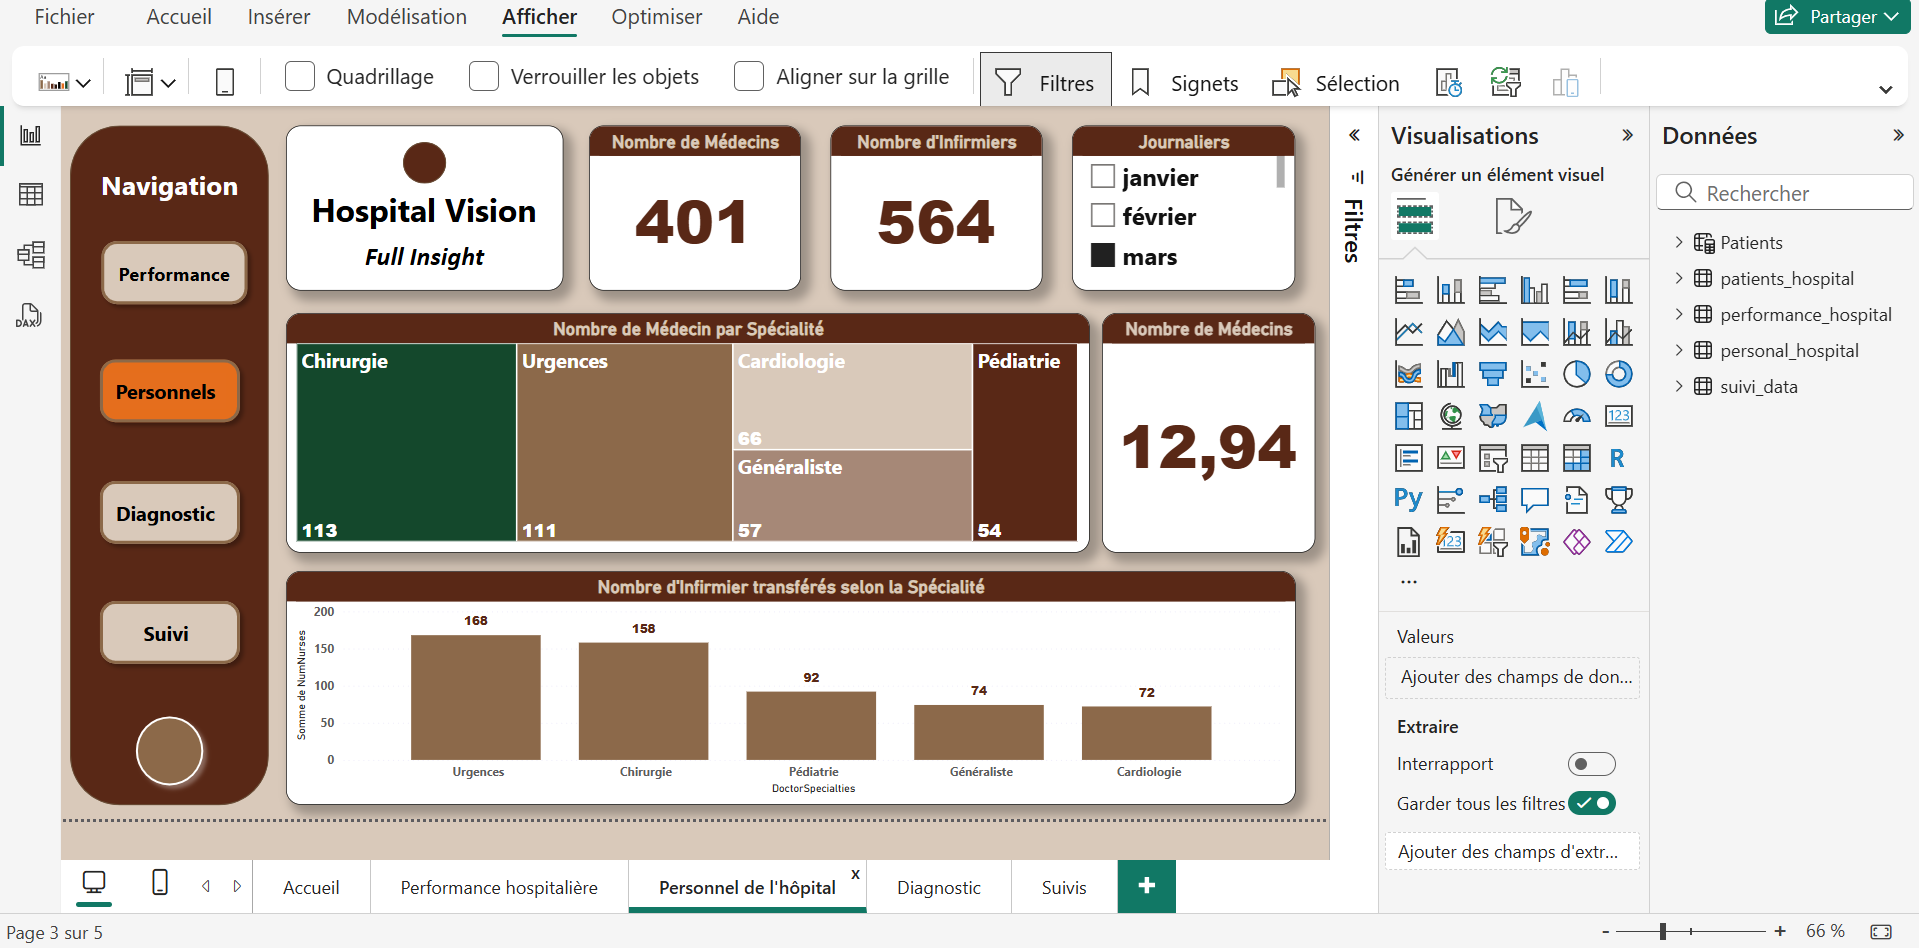

The dashboard page shown, as its layout file describes it:
{"tool":"powerbi","page":{"name":"Personnel de l'hôpital","canvas":[1280,720],"ordinal":2},"visuals":[{"type":"card","title":"Nombre de Médecins","fields":{"Values":["Sum(personal_hospital.NumDoctors)"]},"box":[532.8,19.4,213.8,166.8],"z":0},{"type":"textbox","box":[29.8,56.3,159,56.3],"z":0,"group":"g2"},{"type":"shape","box":[9.7,19.4,200.8,686.7],"z":1000},{"type":"shape","box":[31.6,127,165,81.8],"z":1000,"group":"g2"},{"type":"card","title":"Nombre d''Infirmiers","fields":{"Values":["Sum(personal_hospital.NumNurses)"]},"box":[777.4,19.4,213.8,166.8],"z":2000},{"type":"shape","box":[29.8,369.4,159,81.2],"z":2000,"group":"g2"},{"type":"shape","box":[226.5,19.4,279.8,166.6],"z":3000},{"type":"shape","box":[29.8,246.8,159,81.2],"z":3000,"group":"g2"},{"type":"group","id":"g1","title":"Groupe 1","box":[237.8,77.6,257.2,101.9],"z":4000},{"type":"shape","box":[29.8,490.3,159,81.2],"z":4000,"group":"g2"},{"type":"shape","box":[344.5,35.6,43.7,42.1],"z":5000},{"type":"shape","box":[66.2,607.9,86.1,87.8],"z":5000,"group":"g2"},{"type":"slicer","title":"Journaliers","fields":{"Values":["personal_hospital.Date.Variation.Hiérarchie de dates.Mois"]},"box":[1020.6,19.7,225.6,166.6],"z":6000},{"type":"textbox","box":[237.8,77.6,257.2,53.4],"z":6000,"group":"g1"},{"type":"textbox","box":[289.6,131,155.3,48.5],"z":7000,"group":"g1"},{"type":"treemap","title":"Nombre de Médecin par Spécialité","fields":{"Group":["personal_hospital.DoctorSpecialties"],"Values":["Sum(personal_hospital.NumDoctors)"]},"box":[227.1,209,811.6,242.3],"z":7000},{"type":"clusteredColumnChart","title":"Nombre d''Infirmier transférés selon la Spécialité","fields":{"Category":["personal_hospital.DoctorSpecialties"],"Y":["Sum(personal_hospital.NumNurses)"]},"box":[227.1,469.4,1019.1,236.2],"z":8000},{"type":"group","id":"g2","title":"Groupe 2","box":[29.8,56.3,166.8,639.4],"z":9000},{"type":"textbox","box":[57.5,513.3,96.9,36.3],"z":10000},{"type":"textbox","box":[43.9,392.2,122.7,36.3],"z":11000},{"type":"textbox","box":[43.9,269.5,122.7,36.3],"z":12000},{"type":"textbox","box":[43.9,149.9,140.8,36.3],"z":13000},{"type":"card","title":"Nombre de Médecins","fields":{"Values":["personal_hospital.AverageDoc"]},"box":[1050.9,209,215,242.3],"z":14000}]}

Visuals, with their boxes on the page's 1280x720 design canvas (x1, y1, x2, y2). These are canvas units, not pixel positions in the 1919x948 screenshot, which may show the page scaled, cropped or inside an application window:
"Nombre de Médecins" card: 533:19:747:186
textbox: 30:56:189:113
shape: 10:19:210:706
shape: 32:127:197:209
"Nombre d''Infirmiers" card: 777:19:991:186
shape: 30:369:189:451
shape: 226:19:506:186
shape: 30:247:189:328
"Groupe 1" group: 238:78:495:180
shape: 30:490:189:572
shape: 344:36:388:78
shape: 66:608:152:696
"Journaliers" slicer: 1021:20:1246:186
textbox: 238:78:495:131
textbox: 290:131:445:180
"Nombre de Médecin par Spécialité" treemap: 227:209:1039:451
"Nombre d''Infirmier transférés selon la Spécialité" clusteredColumnChart: 227:469:1246:706
"Groupe 2" group: 30:56:197:696
textbox: 58:513:154:550
textbox: 44:392:167:428
textbox: 44:270:167:306
textbox: 44:150:185:186
"Nombre de Médecins" card: 1051:209:1266:451
